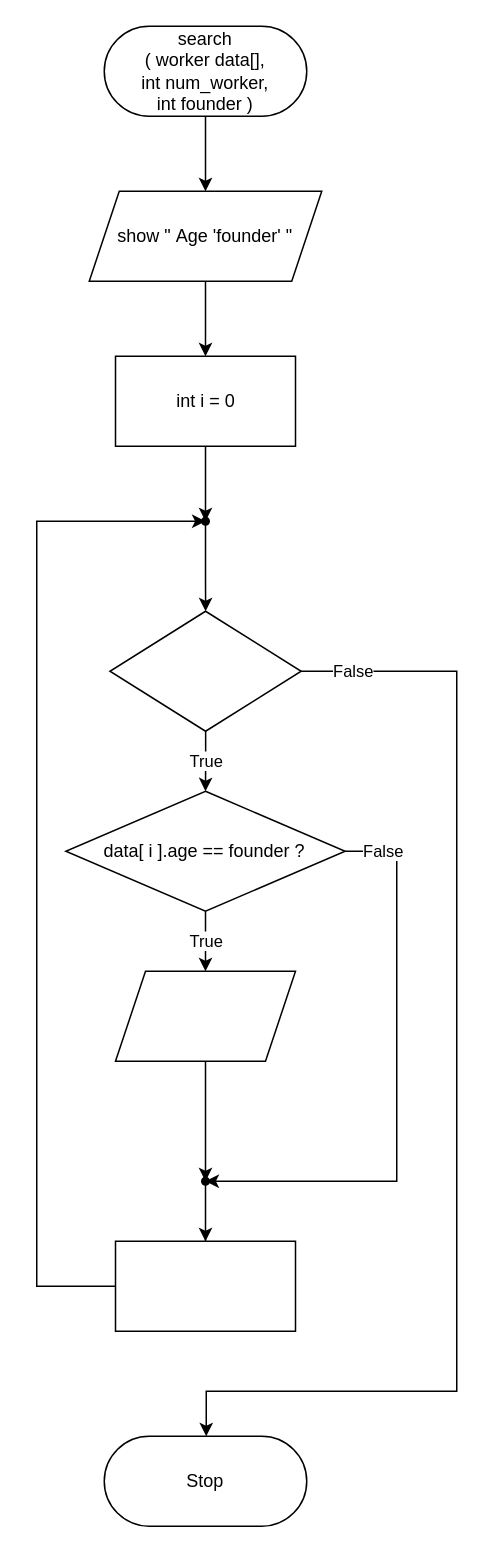
This 495x1553 diagram has some shape labels left out. Here are the shapes that lost their labels. From the top down, the centre of each, then its label:
At [204,670]: "i < num_worker ?".
At [205,1015]: "data[ i ].name".
At [205,1285]: "i = i + 1".
